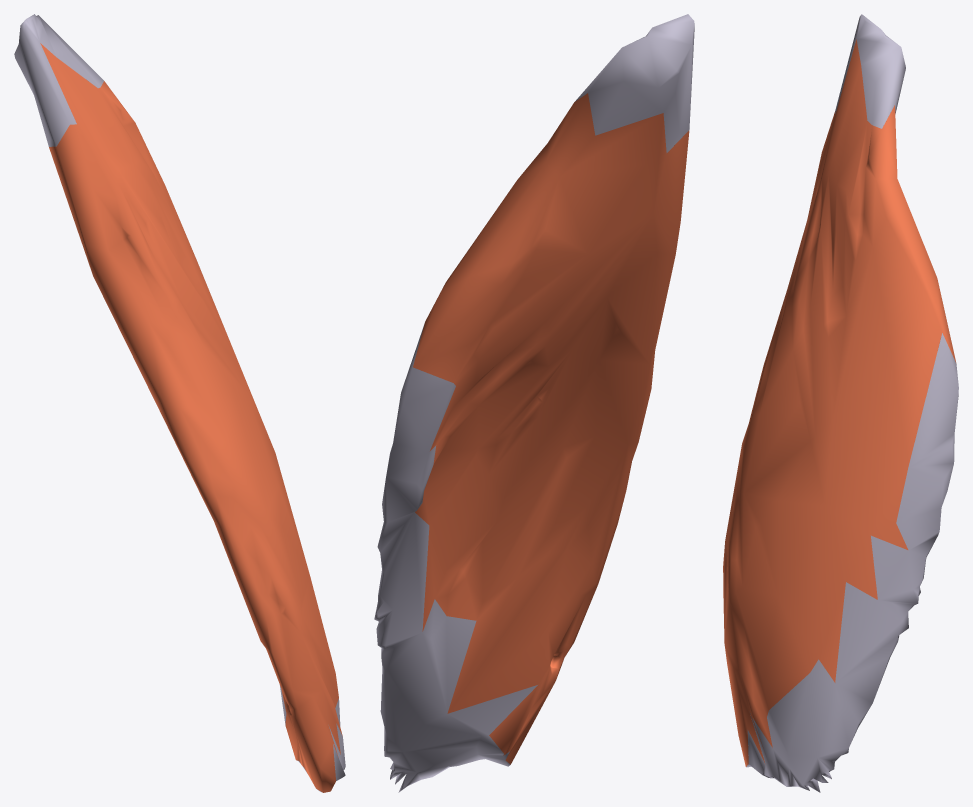
Rendered from Opponens_digiti_minimi_hand_right.glb.
3 views of the same model, side by side, from view 1: azimuth 30°, elevation 25°; view 2: azimuth 150°, elevation 25°; view 3: azimuth 270°, elevation 25° (orthographic). The views are drawn at different scales.
Parts seen in each view (by area): view 1: Opponens_digiti_minimi_of_hand.r_Generated_Mesh_From_X3D.316; view 2: Opponens_digiti_minimi_of_hand.r_Generated_Mesh_From_X3D.316; view 3: Opponens_digiti_minimi_of_hand.r_Generated_Mesh_From_X3D.316.
Part boxes in pixels (x1=…): Opponens_digiti_minimi_of_hand.r_Generated_Mesh_From_X3D.316: x1=14, y1=14, x2=345, y2=792; Opponens_digiti_minimi_of_hand.r_Generated_Mesh_From_X3D.316: x1=374, y1=14, x2=694, y2=792; Opponens_digiti_minimi_of_hand.r_Generated_Mesh_From_X3D.316: x1=723, y1=14, x2=958, y2=792.
Size of the model in its own units: 0.0185 by 0.0477 by 0.0154.
